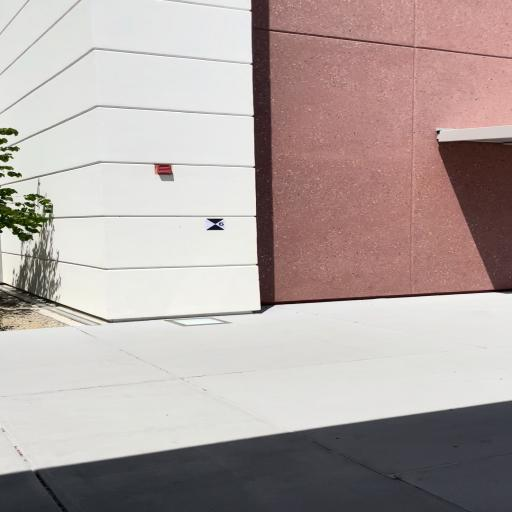target6: (204, 218, 225, 230)
